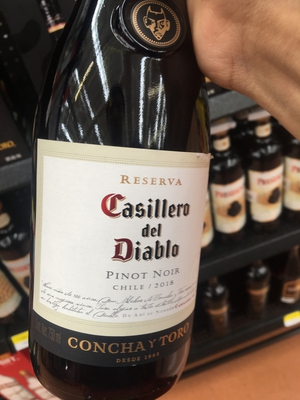casillero del diablo pinot noir: (26, 4, 227, 378)
